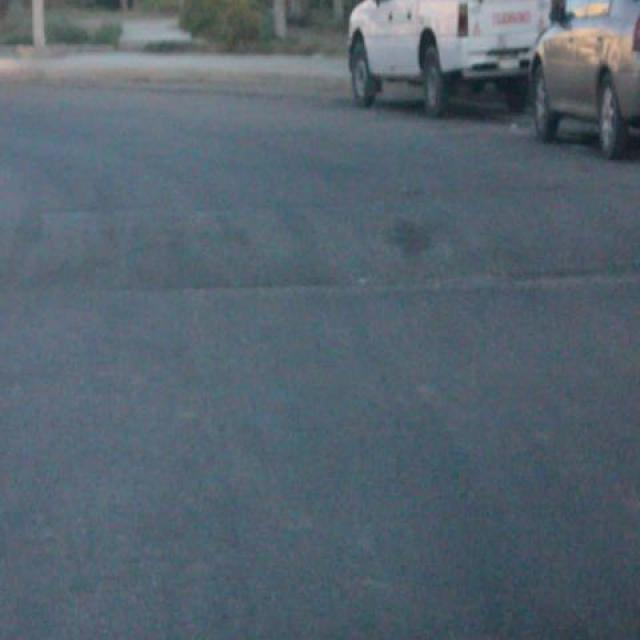Unmarked Bump: (0, 182, 640, 300)
